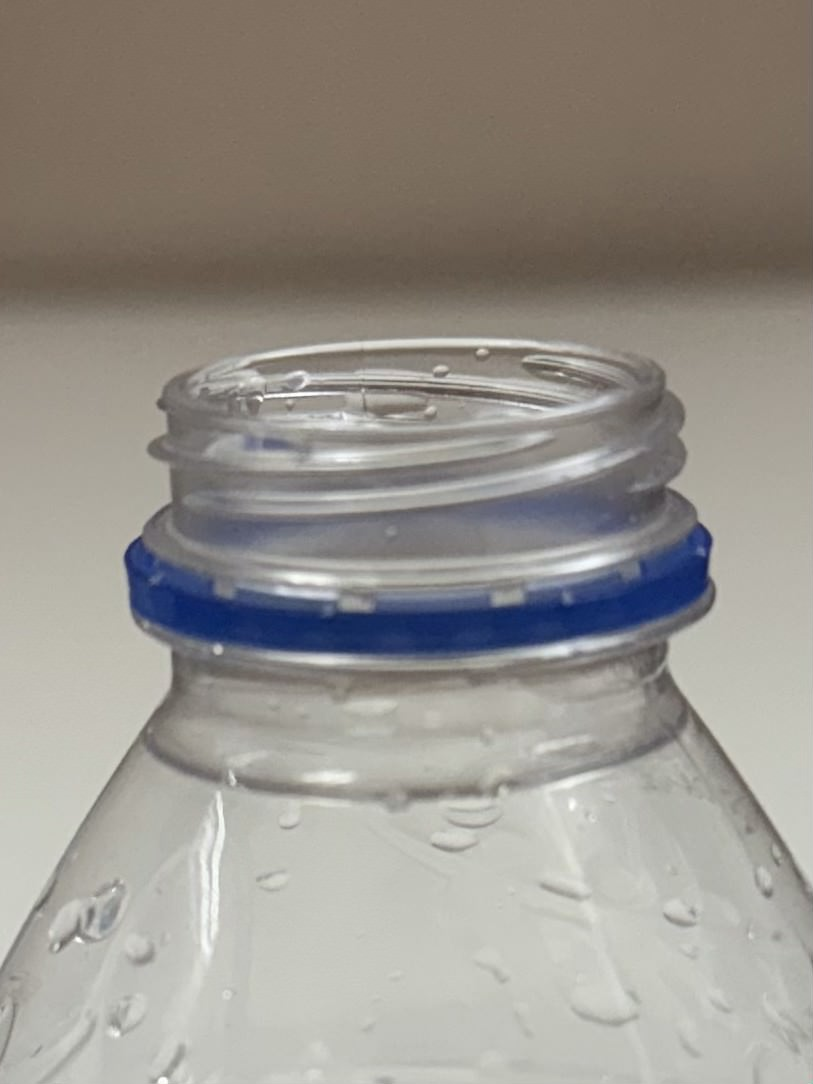no_cap: (122, 328, 726, 694)
